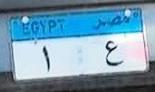1: (41, 45, 56, 74)
ain: (103, 39, 123, 68)
